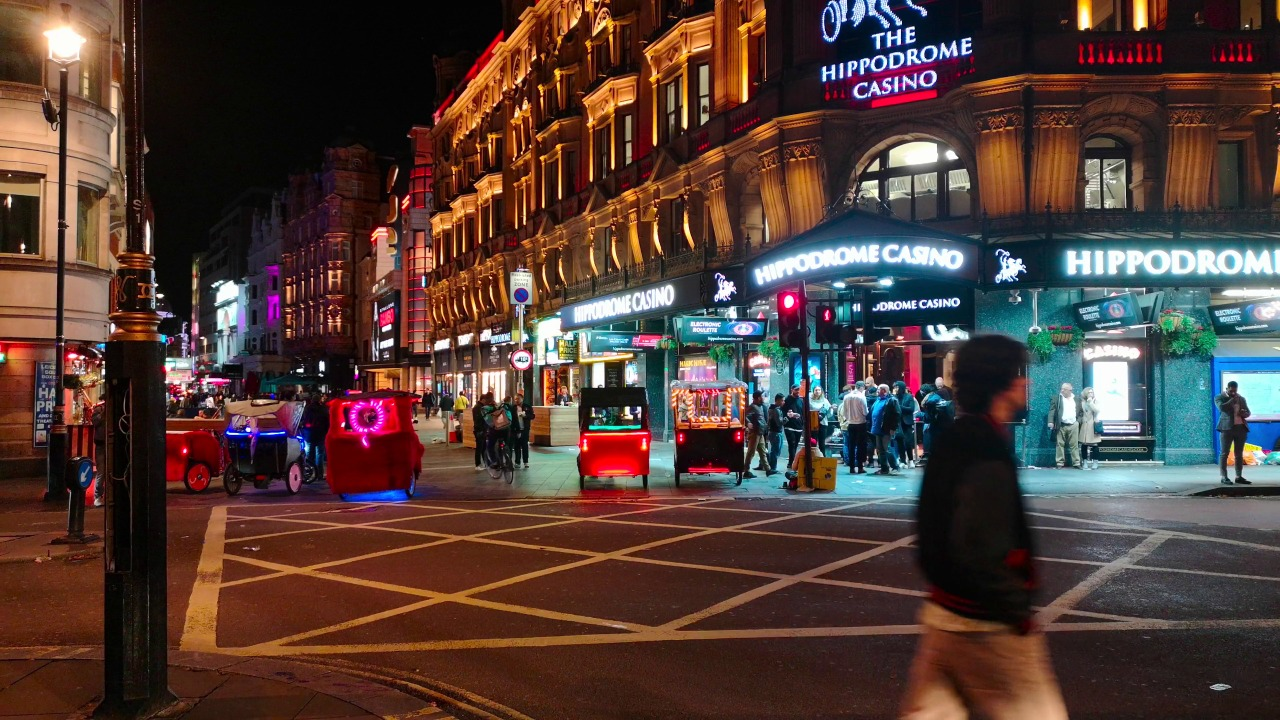car: (223, 393, 317, 496), (579, 385, 644, 497), (339, 392, 411, 486), (170, 397, 222, 489), (679, 393, 731, 475)
person: (946, 345, 1047, 720), (1214, 380, 1247, 489), (1083, 378, 1113, 481), (794, 445, 842, 500), (495, 406, 528, 473), (470, 384, 499, 458), (852, 387, 870, 491), (1051, 379, 1074, 460), (876, 387, 892, 475), (789, 444, 818, 492), (750, 389, 766, 471), (893, 369, 908, 435), (810, 385, 828, 431), (782, 380, 798, 423), (771, 397, 781, 455), (517, 393, 531, 415)
